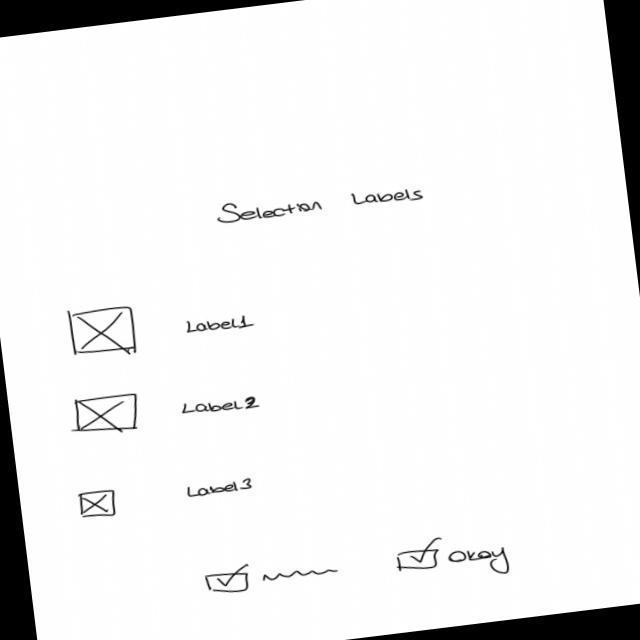checkbox: (393, 529, 515, 590), (203, 554, 342, 598)
image: (65, 304, 142, 361), (73, 391, 143, 439), (75, 487, 122, 523)
label: (214, 178, 427, 228), (179, 392, 264, 420), (182, 312, 258, 338), (184, 475, 255, 500)
